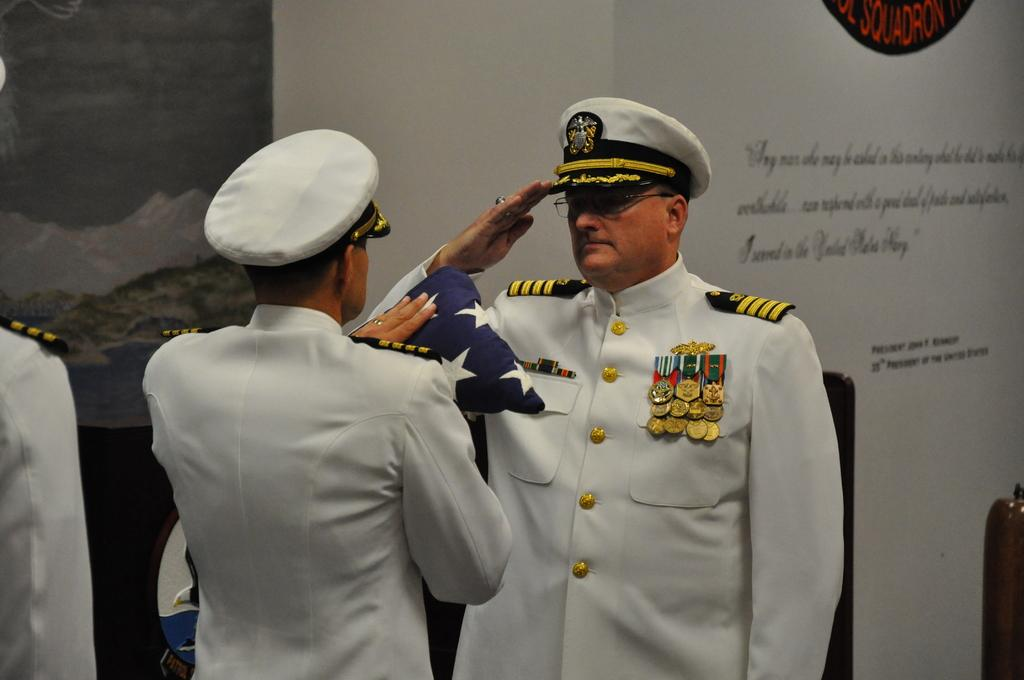Hat: (200, 126, 392, 268), (540, 93, 712, 204)
